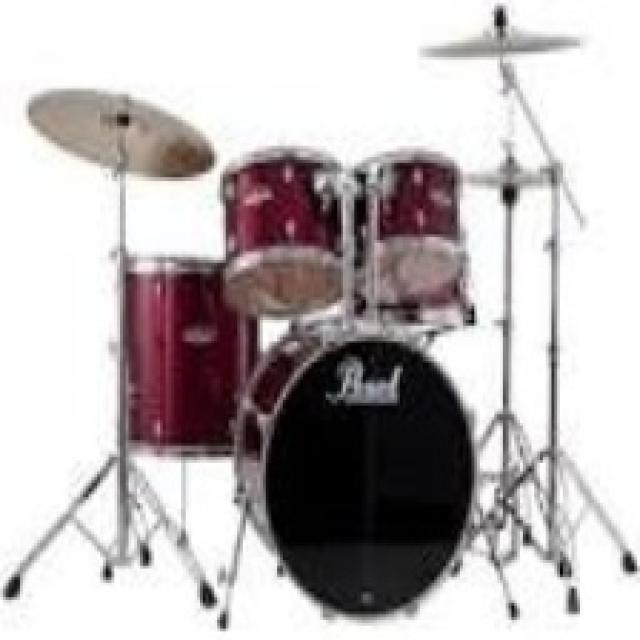drums: (21, 1, 620, 623)
